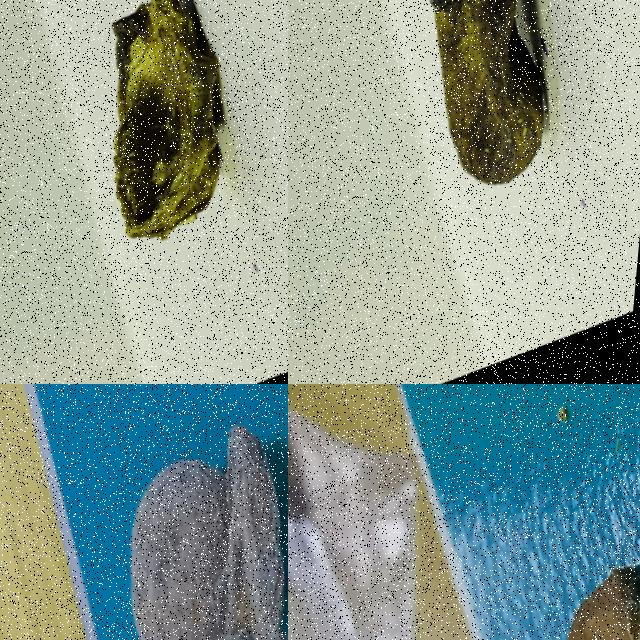Agglomerated_cocoabeans: (44, 384, 287, 639)
Flat_cocoabeans: (288, 0, 639, 285), (0, 0, 287, 314), (462, 424, 639, 639)
